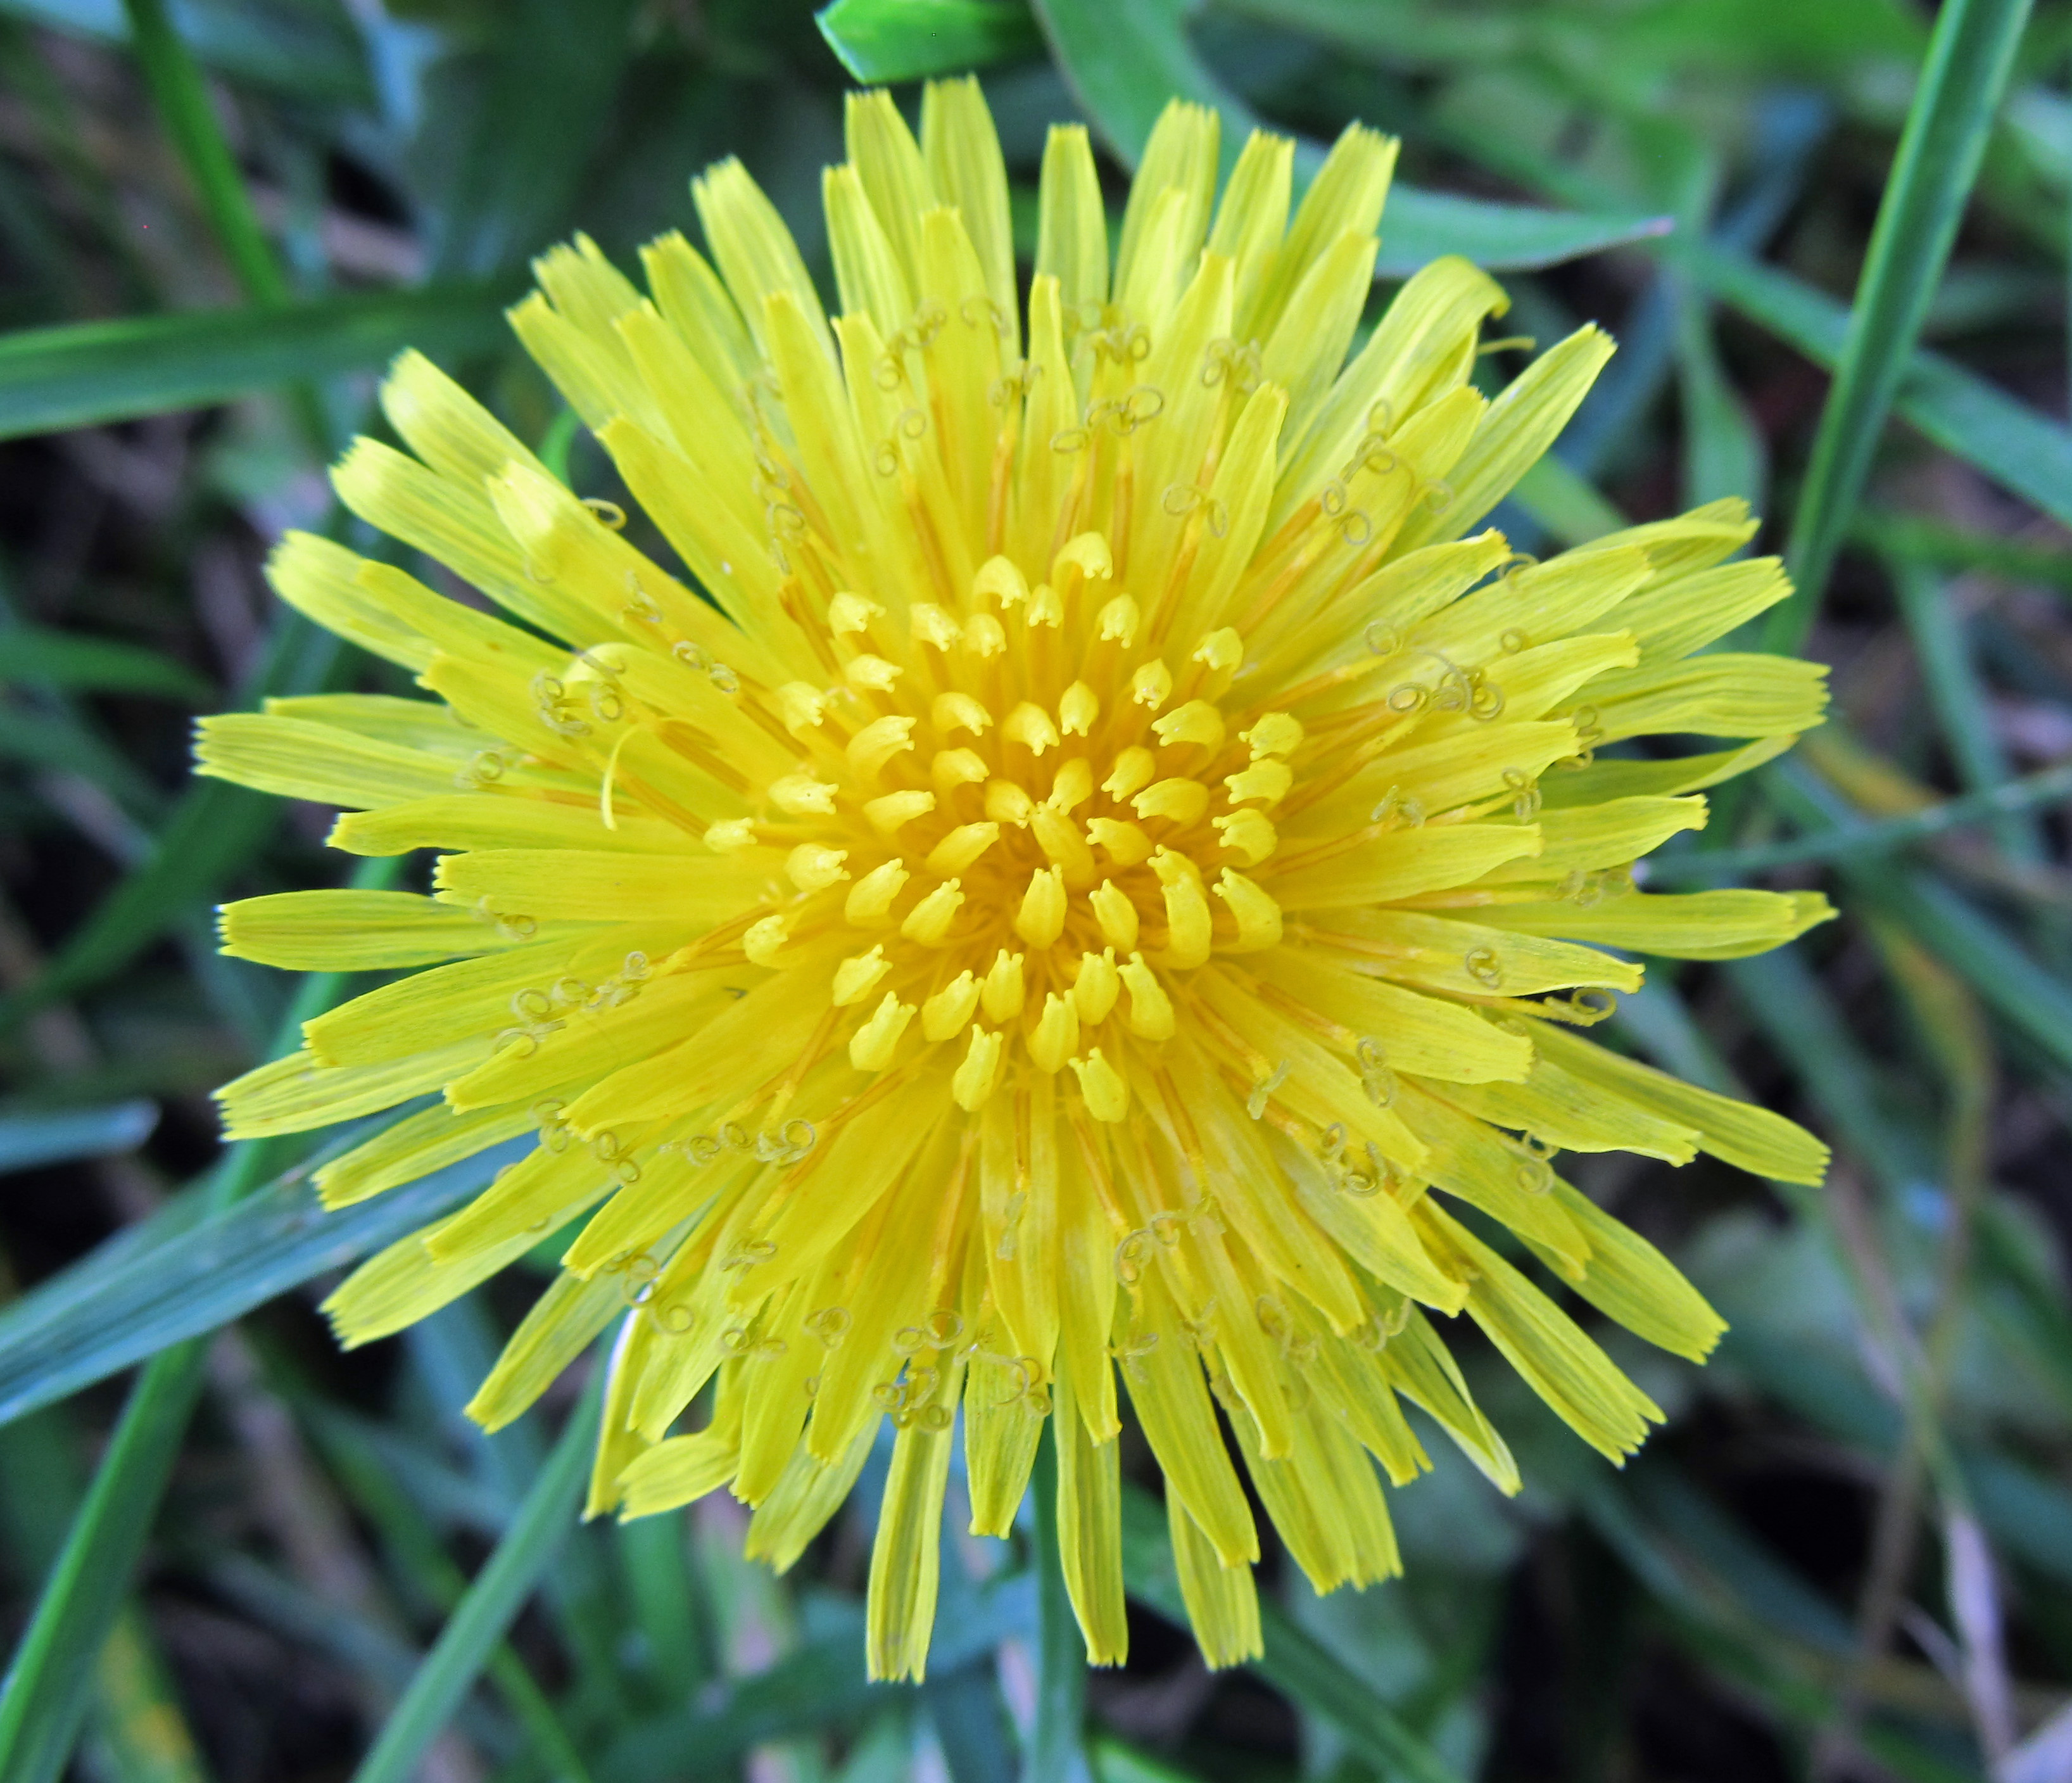dandelion: (324, 284, 1676, 1557)
